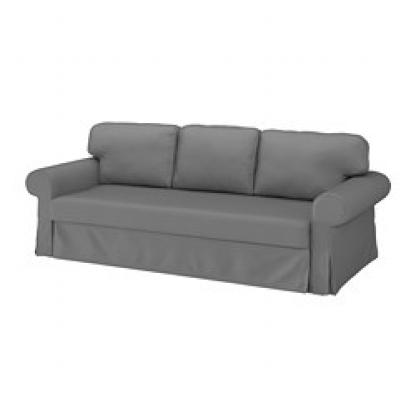Sofa: (20, 86, 393, 313)
